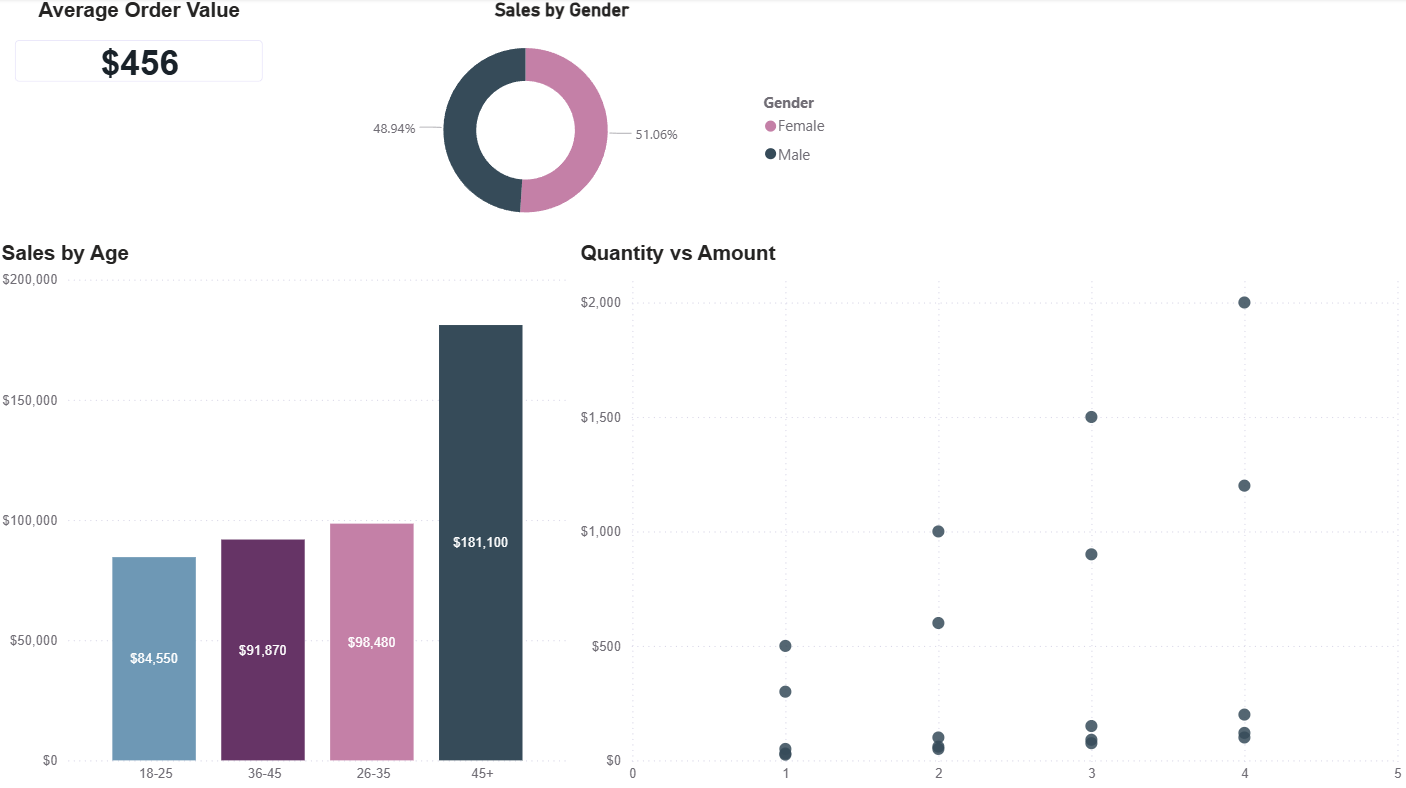

What the dashboard file says about the page in this screenshot:
{"tool":"powerbi","page":{"name":"Customer & Product Analysis","canvas":[1280,720],"ordinal":1},"visuals":[{"type":"donutChart","title":"Sales by Gender","fields":{"Category":["retail_sales_dataset.Gender"],"Y":["Sum(retail_sales_dataset.Total Amount)"]},"box":[259.7,0,507.7,220.8],"z":0},{"type":"columnChart","title":"Sales by Age","fields":{"Category":["retail_sales_dataset.Age set"],"Y":["Sum(retail_sales_dataset.Total Amount)"],"Series":["retail_sales_dataset.Age set"]},"box":[0,220.8,525.2,499],"z":1000},{"type":"cardVisual","title":"Average Order Value","fields":{"Data":["Miary.Average Order Value"]},"box":[0,0,259.7,93.4],"z":2000},{"type":"scatterChart","title":"Quantity vs Amount","fields":{"Y":["retail_sales_dataset.Total Amount"],"X":["retail_sales_dataset.Quantity"]},"box":[525.2,220.8,754.8,499],"z":3000}]}

Visuals, with their boxes in screenshot pixels (x1, y1, x2, y2), scaled from the page's 1280x720 canvas onto the 1406x788 screenshot:
"Sales by Gender" donutChart: (285, 0, 843, 242)
"Sales by Age" columnChart: (0, 242, 577, 787)
"Average Order Value" cardVisual: (0, 0, 285, 102)
"Quantity vs Amount" scatterChart: (577, 242, 1405, 787)
